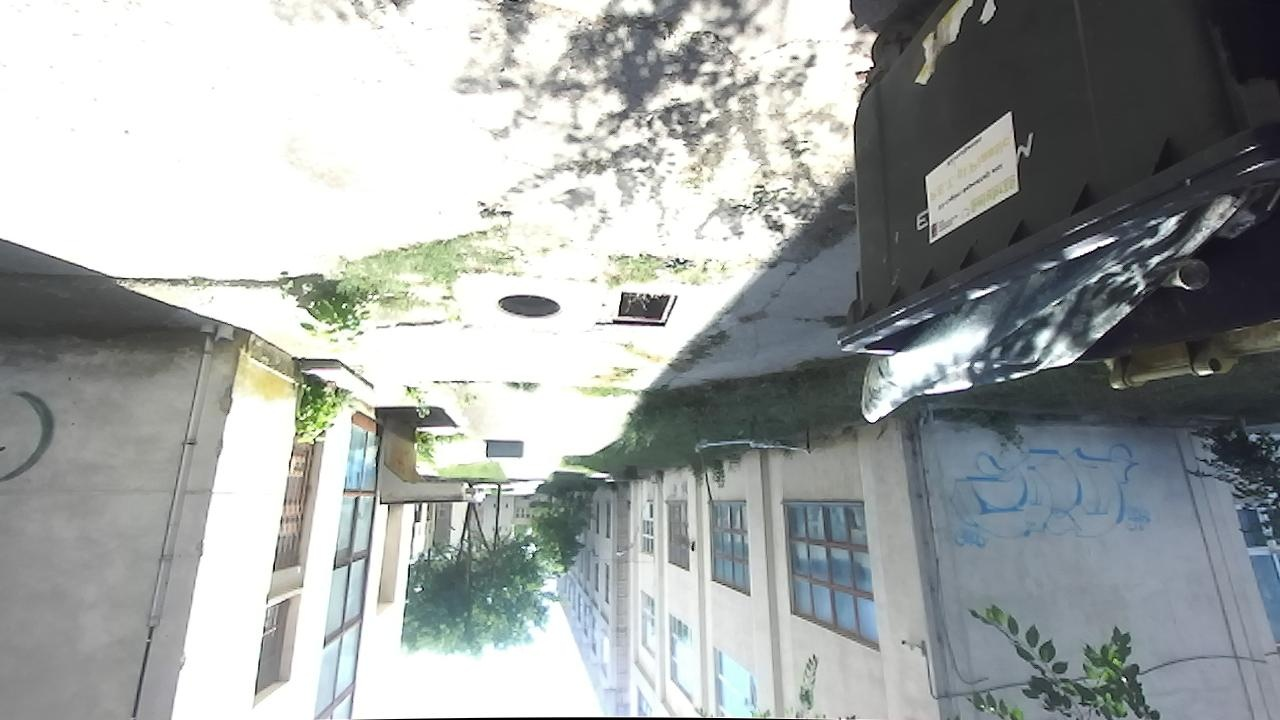drain: (596, 283, 678, 332), (491, 293, 562, 321)
